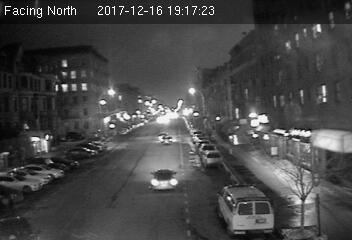car: (149, 167, 178, 190), (203, 151, 222, 166), (160, 135, 173, 145)
police: (216, 183, 276, 235)
